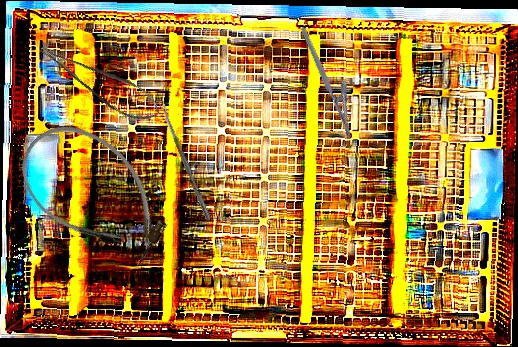Cannula: (2, 104, 187, 283)
Micro Scissor: (36, 25, 166, 134)
Needle Holder: (299, 20, 368, 140)
Surgical Spoon: (158, 100, 213, 222)
